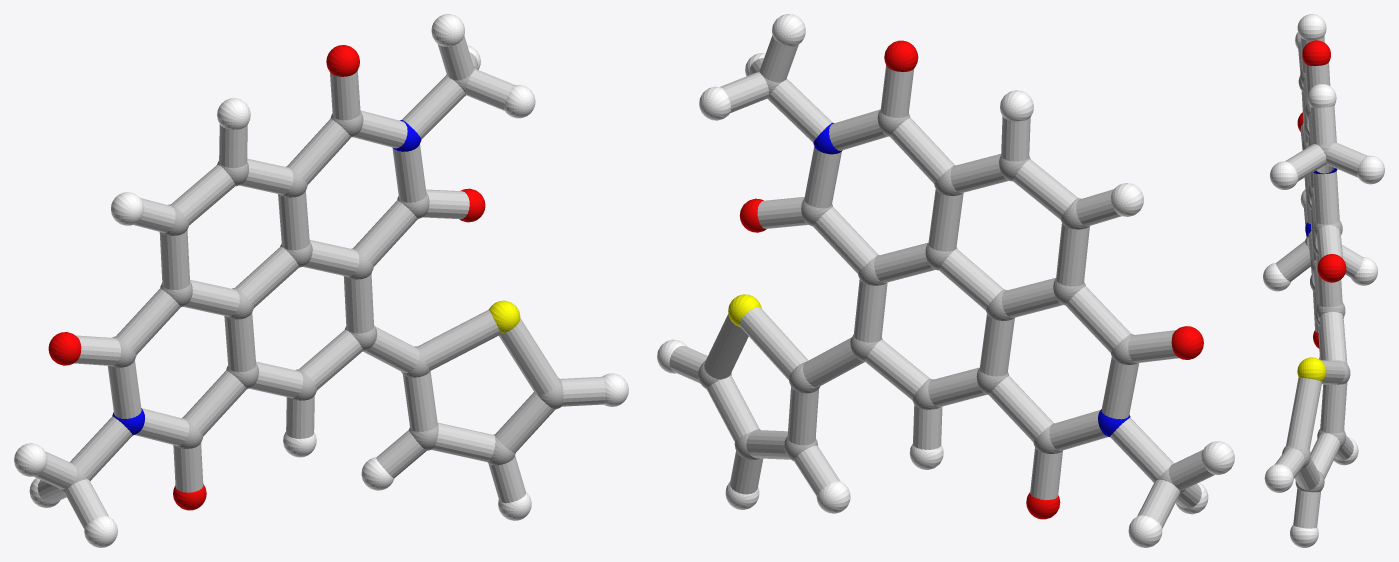
Rendered from Dimethyl_Naphthalene_Dicarboximide_Phi_20_Theta_190_Thiophene.glb.
The picture shows the model from 3 angles, left to right: view 1: azimuth 30°, elevation 25°; view 2: azimuth 150°, elevation 25°; view 3: azimuth 270°, elevation 25°; orthographic projection. The views are drawn at different scales.
Parts seen in each view (by area): view 1: grp14119, grp7241, grp1, grp12309, grp11585, grp13757; view 2: grp14119, grp7241, grp1, grp12309, grp11585; view 3: grp14119, grp7241, grp1, grp12309, grp13757.
Boxes of the visible parts, x1,y1,x2,y2 form: grp14119: [34, 36, 605, 529]; grp7241: [14, 14, 628, 547]; grp1: [59, 66, 563, 493]; grp12309: [48, 45, 485, 510]; grp11585: [112, 120, 421, 435]; grp13757: [489, 300, 520, 333]; grp14119: [669, 35, 1214, 528]; grp7241: [657, 14, 1234, 547]; grp1: [698, 69, 1185, 494]; grp12309: [739, 40, 1203, 519]; grp11585: [813, 122, 1130, 436]; grp14119: [1274, 36, 1367, 528]; grp7241: [1263, 14, 1384, 547]; grp1: [1282, 69, 1350, 492]; grp12309: [1297, 40, 1346, 348]; grp13757: [1297, 357, 1326, 381].
Size of the model in its own units: 12.11 by 10.01 by 2.53.
